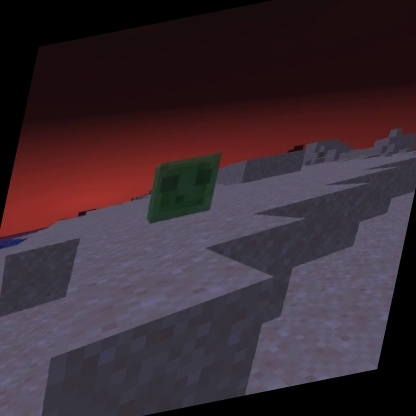slime: (139, 147, 228, 227)
